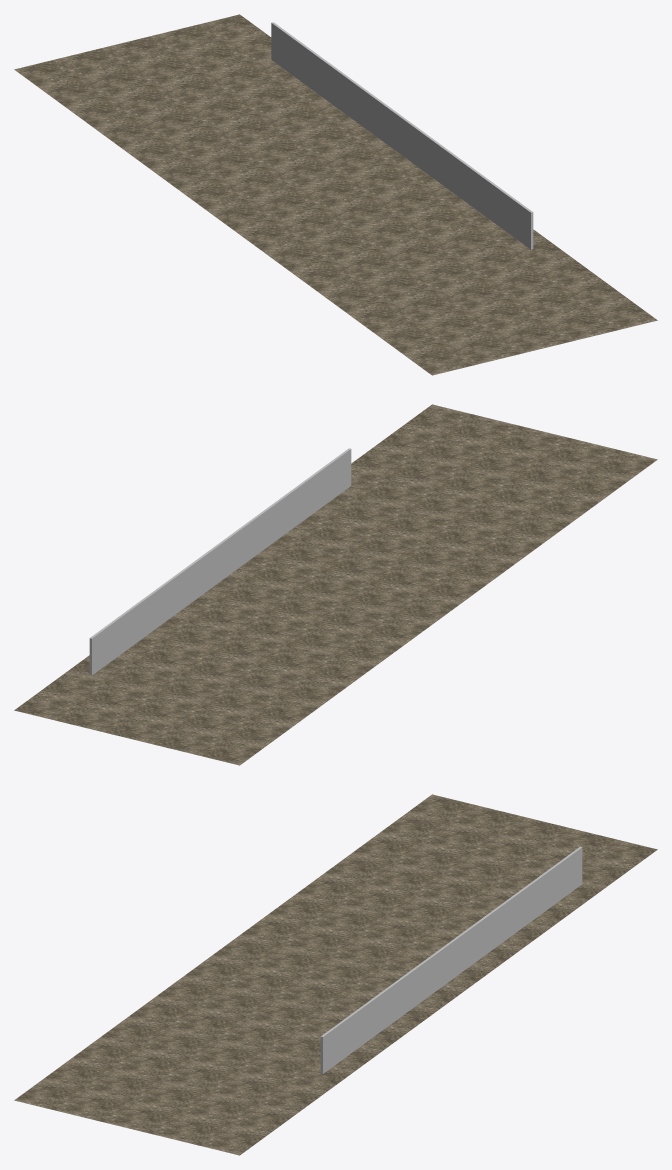
Rendered from roofTop.dae.
The picture shows the model from 3 angles, top to bottom: view 1: azimuth 30°, elevation 25°; view 2: azimuth 150°, elevation 25°; view 3: azimuth 330°, elevation 25°; orthographic projection.
Visible parts, largest first — view 1: floor, wall; view 2: floor, wall; view 3: floor, wall.
Boxes of the visible parts, bbox=[...] form: floor: bbox=[14, 14, 657, 375]; wall: bbox=[271, 22, 533, 249]; floor: bbox=[14, 404, 657, 765]; wall: bbox=[89, 448, 351, 675]; floor: bbox=[14, 794, 657, 1155]; wall: bbox=[320, 846, 582, 1073].
Bounding box in the file's own units: 12.61 × 40.44 × 1.99.
